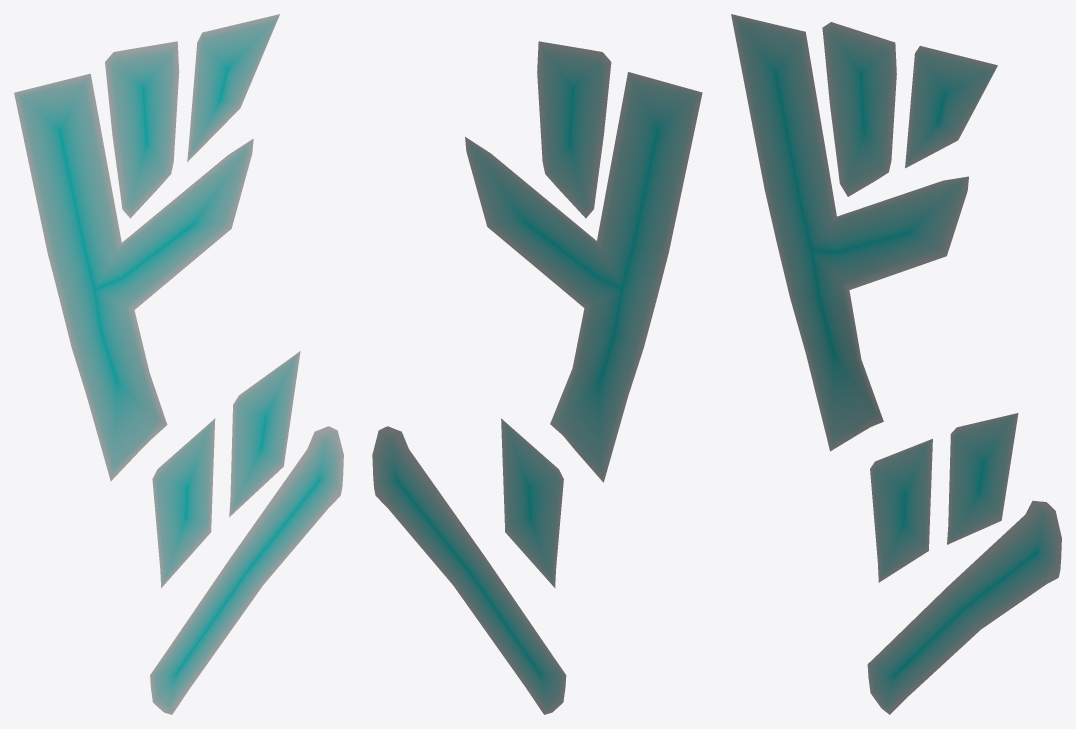
Rendered from SM_EFF_Text_NervousRupture_01.glb.
3 renders of one model, left to right at view 1: azimuth 30°, elevation 25°; view 2: azimuth 150°, elevation 25°; view 3: azimuth 330°, elevation 25°, orthographic.
Visible parts, largest first — view 1: SM_EFF_Text_NervousRupture_01; view 2: SM_EFF_Text_NervousRupture_01; view 3: SM_EFF_Text_NervousRupture_01.
Part boxes in pixels (x1,y1,x2,y2): SM_EFF_Text_NervousRupture_01: (14, 14, 343, 714); SM_EFF_Text_NervousRupture_01: (372, 41, 702, 714); SM_EFF_Text_NervousRupture_01: (731, 14, 1061, 714).
Bounding box in the file's own units: 0.4784 × 0.9378 × 0.0096.
